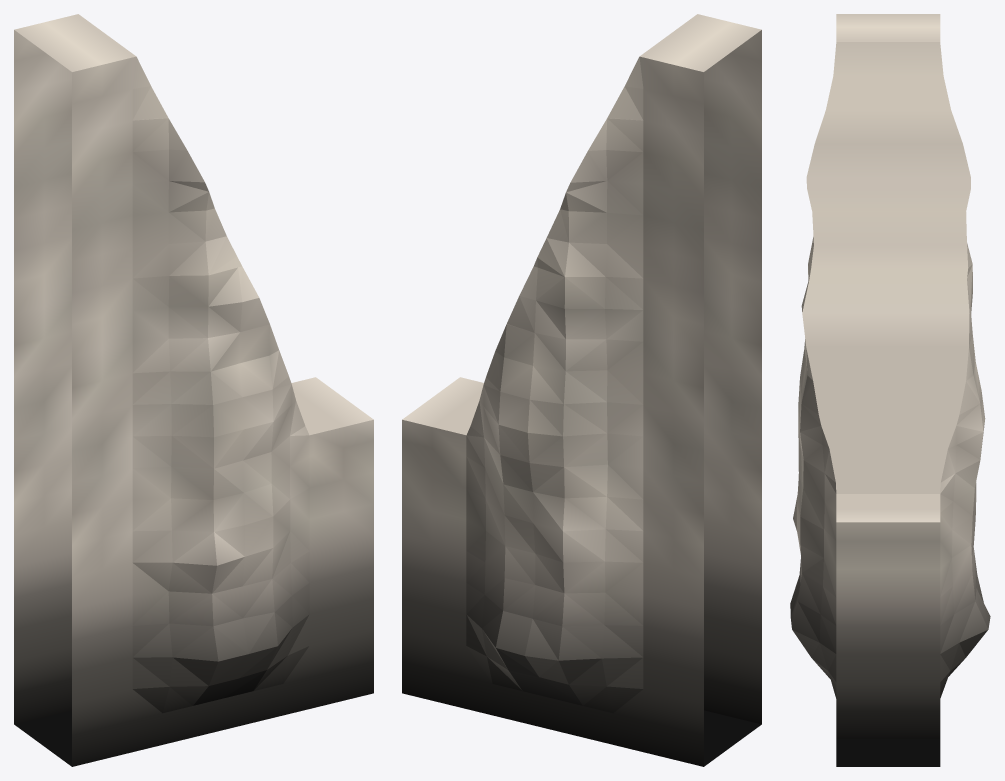
Rendered from SM_VKI_Wall_Cave_Rake_150_R.fbx.
3 renders of one model, left to right at view 1: azimuth 30°, elevation 25°; view 2: azimuth 150°, elevation 25°; view 3: azimuth 270°, elevation 25°, orthographic. The views are drawn at different scales.
Visible parts, largest first — view 1: SM_VKI_Wall_Cave_Rake_150_R.001; view 2: SM_VKI_Wall_Cave_Rake_150_R.001; view 3: SM_VKI_Wall_Cave_Rake_150_R.001.
Boxes of the visible parts, x1,y1,x2,y2 form: SM_VKI_Wall_Cave_Rake_150_R.001: [14, 14, 373, 766]; SM_VKI_Wall_Cave_Rake_150_R.001: [402, 14, 761, 766]; SM_VKI_Wall_Cave_Rake_150_R.001: [790, 14, 990, 766].
Bounding box in the file's own units: 1.5 × 3.3 × 0.9634.
